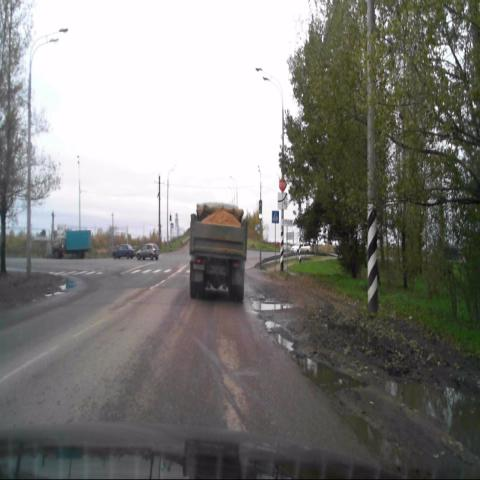2_5: (278, 179, 286, 191)
5_19_1: (271, 210, 278, 222)
